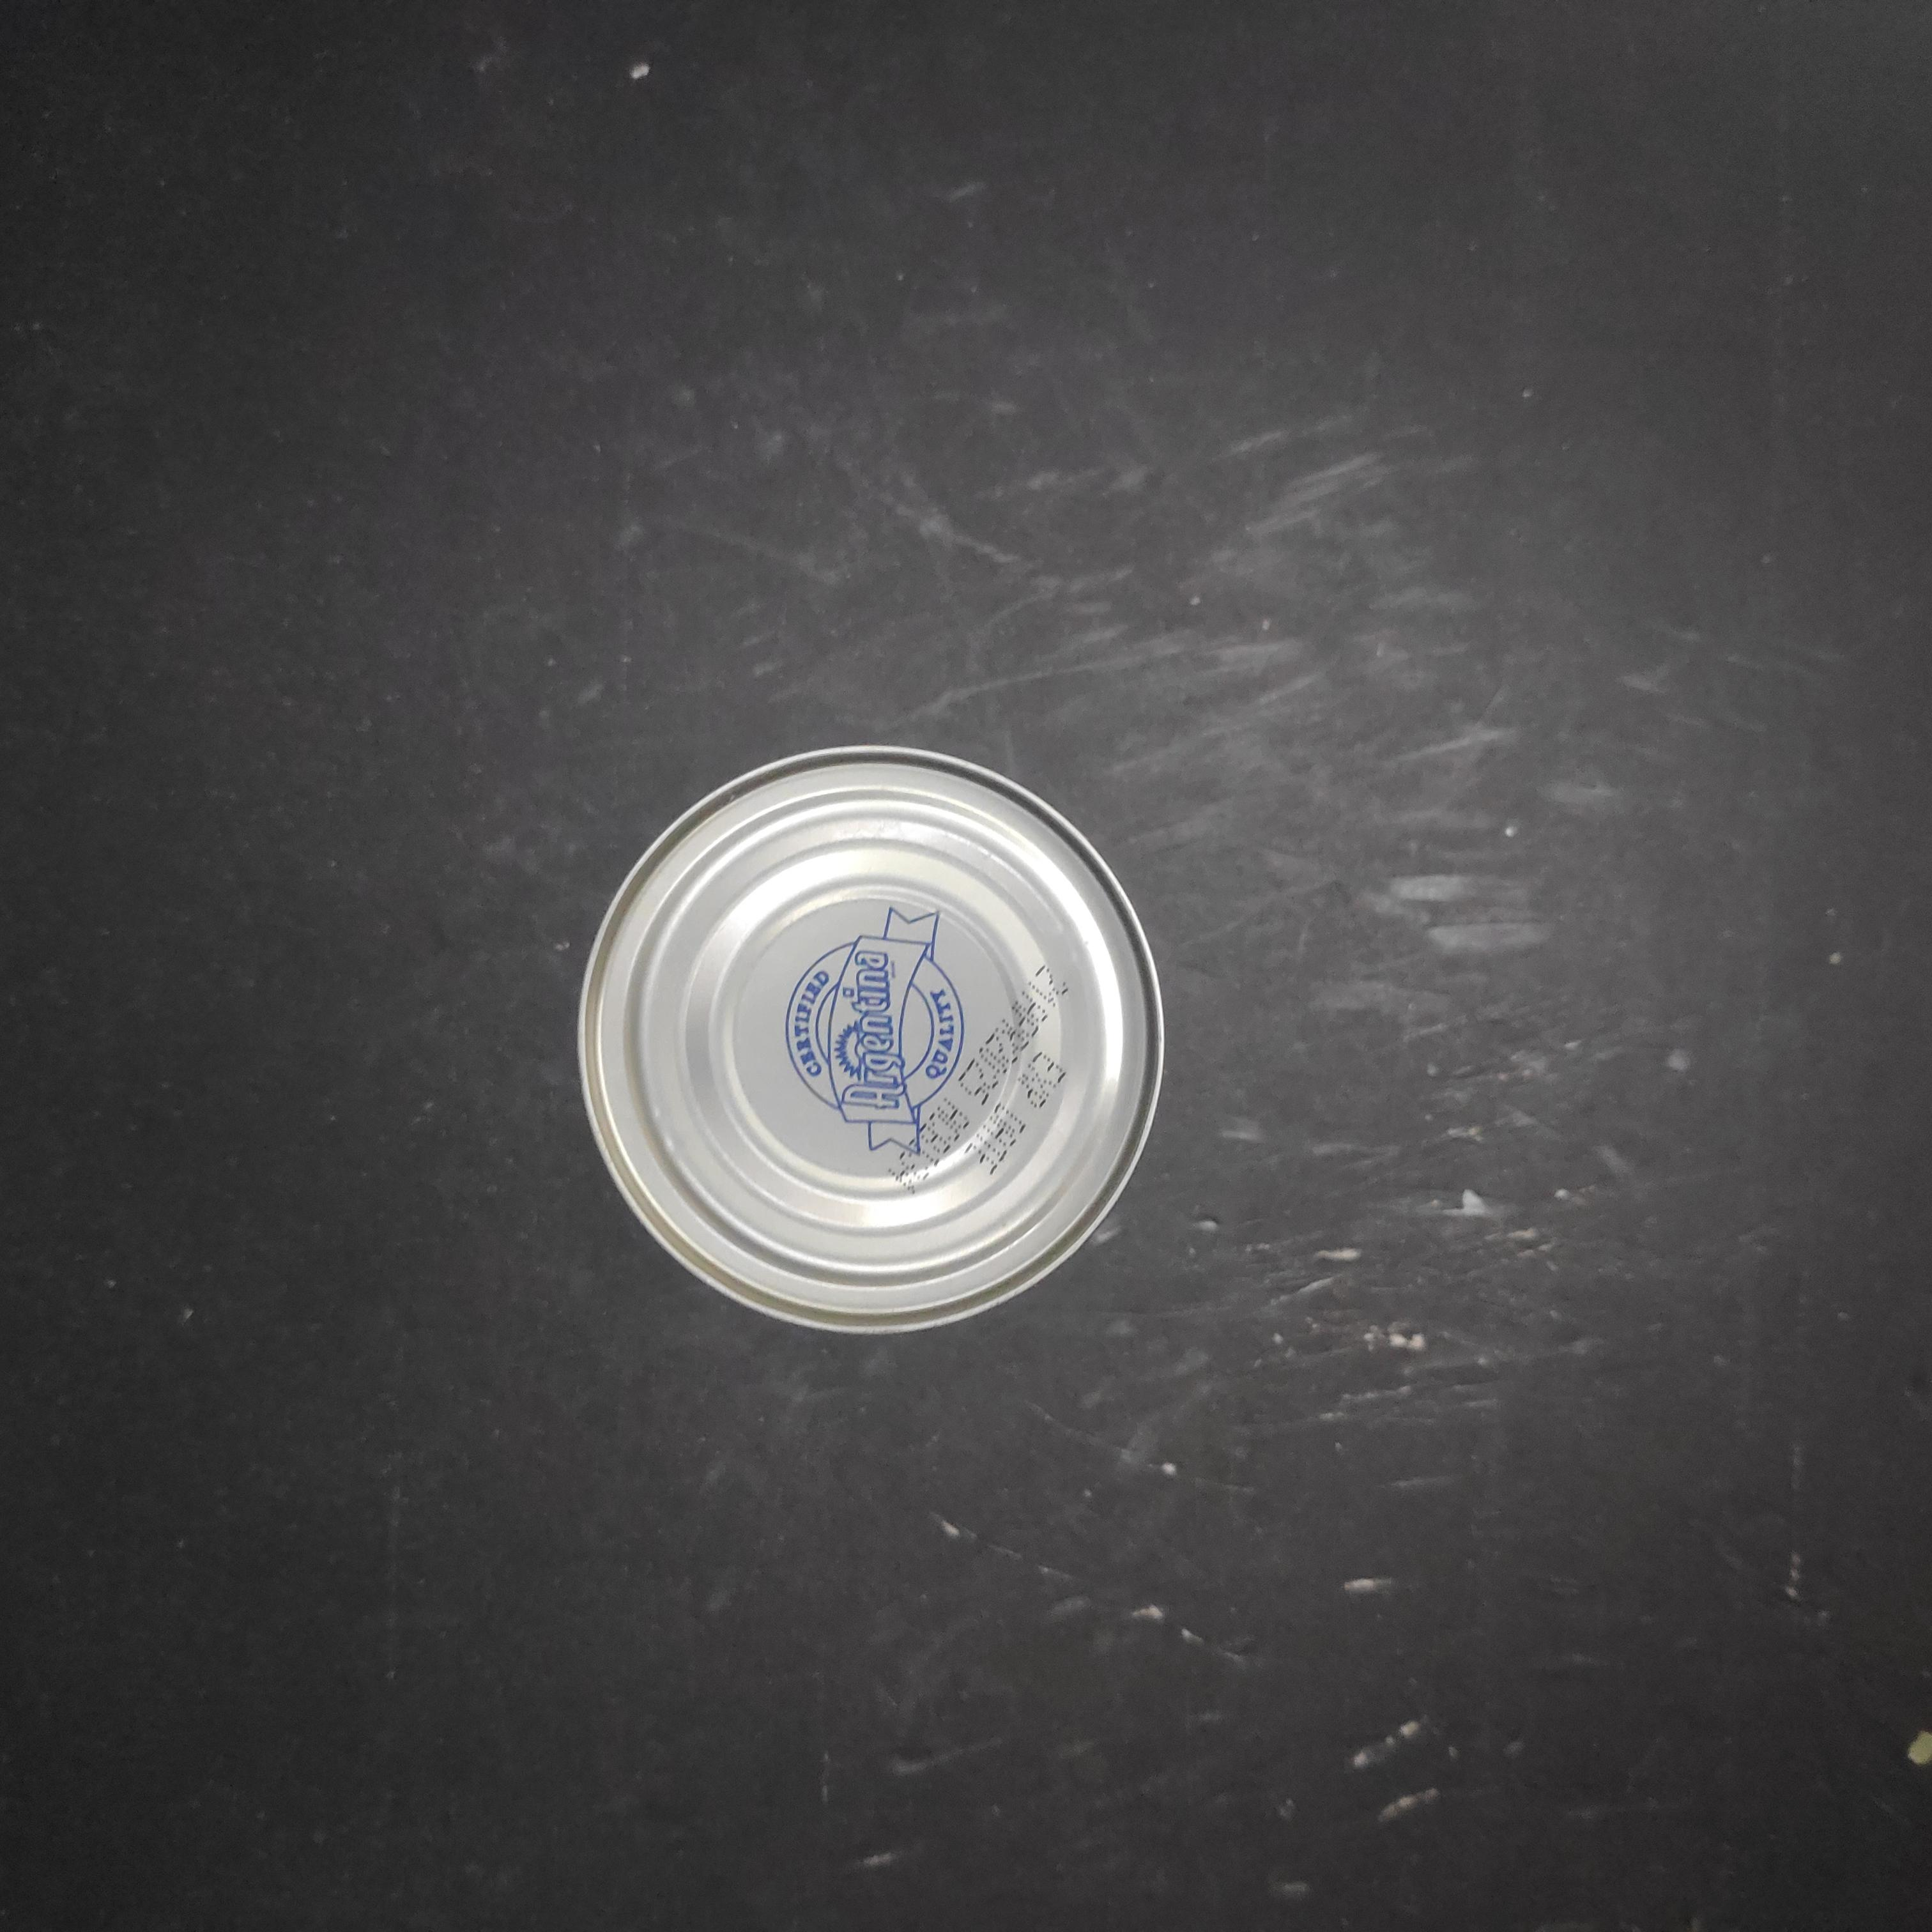No defect: (594, 575, 1189, 1166)
